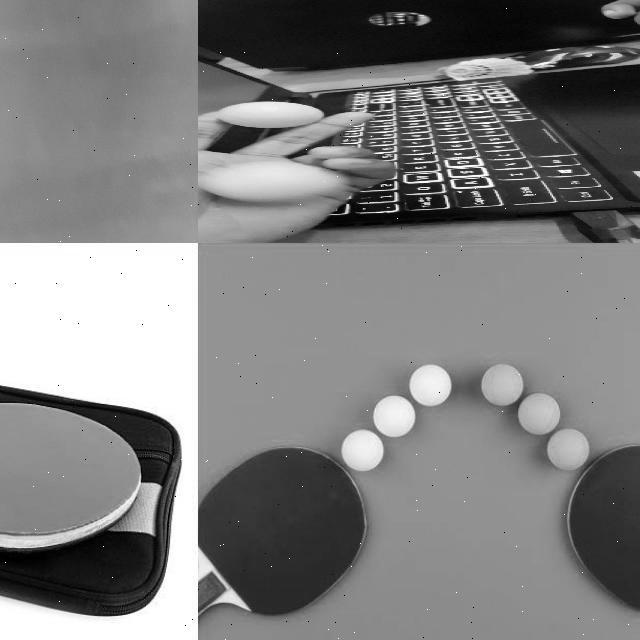ping-pong-ball: (198, 161, 347, 202), (216, 100, 324, 128), (479, 364, 521, 404), (408, 364, 450, 404), (371, 396, 413, 436), (341, 430, 383, 470), (547, 429, 589, 468), (518, 394, 558, 434)
